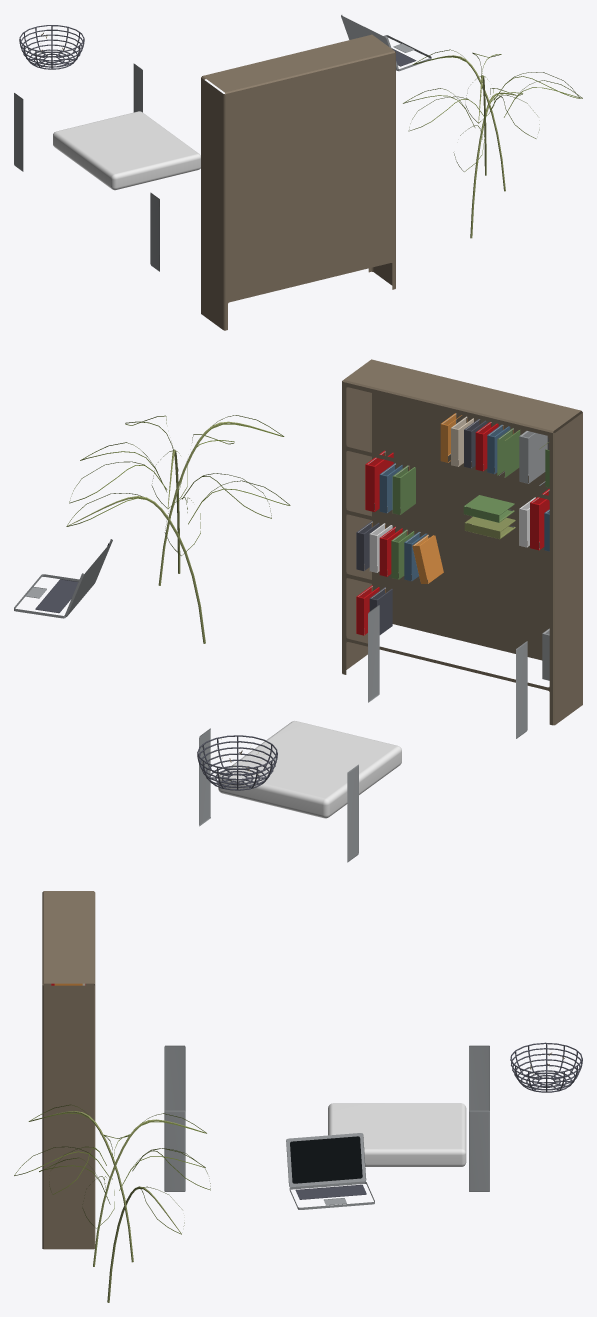
The model's file is object_6_lev1.glb.
3 renders of one model, top to bottom at view 1: azimuth 30°, elevation 25°; view 2: azimuth 150°, elevation 25°; view 3: azimuth 270°, elevation 25°, orthographic. The views are drawn at different scales.
Parts seen in each view (by area): view 1: object_6_lev1; view 2: object_6_lev1; view 3: object_6_lev1.
Part boxes in pixels (<box>): object_6_lev1: <box>14,15,582,330</box>; object_6_lev1: <box>14,359,582,862</box>; object_6_lev1: <box>14,891,582,1302</box>.
Bounding box in the file's own units: 21.68 × 12.53 × 24.38.
1 material, 1 textured.
